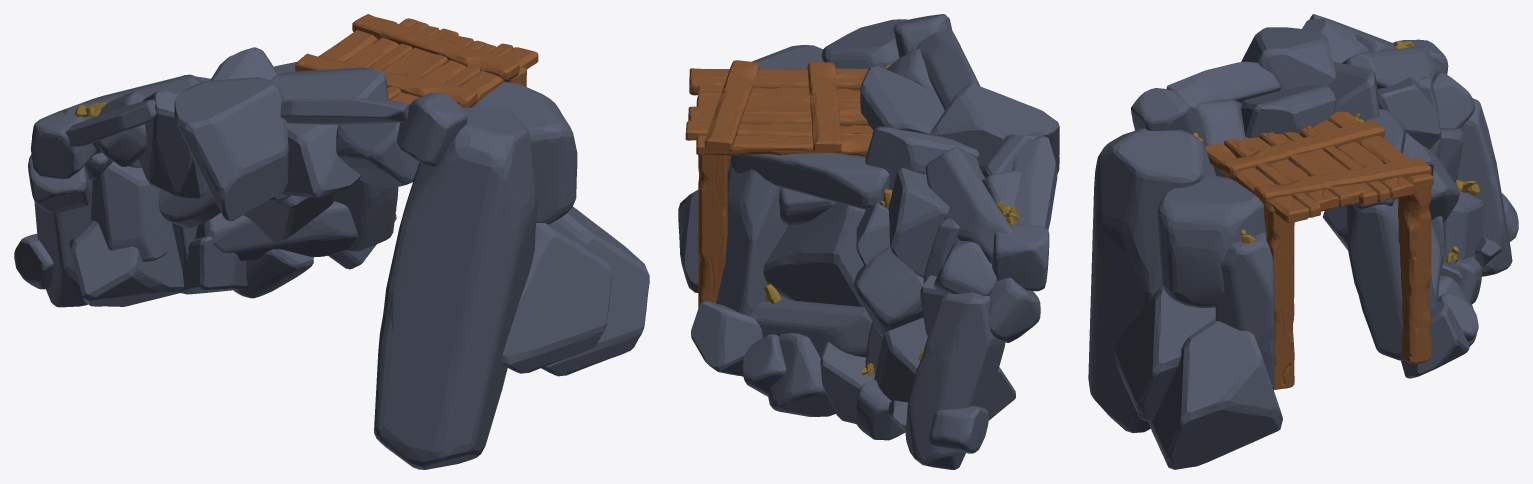
Rendered from uploads_files_3802244_Gold+Mine5.fbx.
3 views of the same model, side by side, from view 1: azimuth 30°, elevation 25°; view 2: azimuth 150°, elevation 25°; view 3: azimuth 270°, elevation 25° (orthographic). The views are drawn at different scales.
Visible parts, largest first — view 1: Cube.040, Cube.048, Cube.051, Cube.041, Cube.011, Cube.037, Cube.036, Cube.013, Cube.006, Cube.042, Cube.045, Cube.050 (+22 smaller); view 2: Cube.012, Cube.015, Cube.016, Cube.014, Cube.048, Cube.035, Cube.006, Cube.020, Cube.005, Cube.041, Cube.010, Cube.011 (+36 smaller); view 3: Cube.040, Cube.036, Cube.037, Cube.016, Cube.051, Cube.002, Cube.005, Cube.048, Cube.012, Cube.004, Cube.041, Cube.049 (+33 smaller).
Boxes of the visible parts, x1,y1,x2,y2 form: Cube.040: (374,107,537,469); Cube.048: (174,77,288,221); Cube.051: (501,220,612,373); Cube.041: (270,67,388,197); Cube.011: (69,220,184,306); Cube.037: (472,82,577,224); Cube.036: (541,206,649,376); Cube.013: (91,161,168,261); Cube.006: (195,201,357,260); Cube.042: (336,97,419,187); Cube.045: (138,90,193,195); Cube.050: (396,92,467,166); Cube.012: (905,292,1005,469); Cube.015: (763,202,865,306); Cube.016: (716,165,788,315); Cube.014: (730,153,889,209); Cube.048: (929,84,1059,174); Cube.035: (925,147,1013,263); Cube.006: (749,295,872,357); Cube.020: (888,168,949,277); Cube.005: (698,154,727,307); Cube.041: (860,66,944,134); Cube.010: (854,247,923,336); Cube.011: (874,317,1015,420); Cube.040: (1088,128,1215,432); Cube.036: (1148,319,1282,469); Cube.037: (1157,175,1266,307); Cube.016: (1347,198,1435,360); Cube.051: (1115,286,1215,420); Cube.002: (1215,232,1274,388); Cube.005: (1398,187,1431,364); Cube.048: (1241,27,1335,90); Cube.012: (1456,98,1512,276); Cube.004: (1263,203,1294,389); Cube.041: (1241,85,1336,138); Cube.049: (1166,61,1281,110).
Bounding box in the file's own units: 1152 × 804 × 940.
